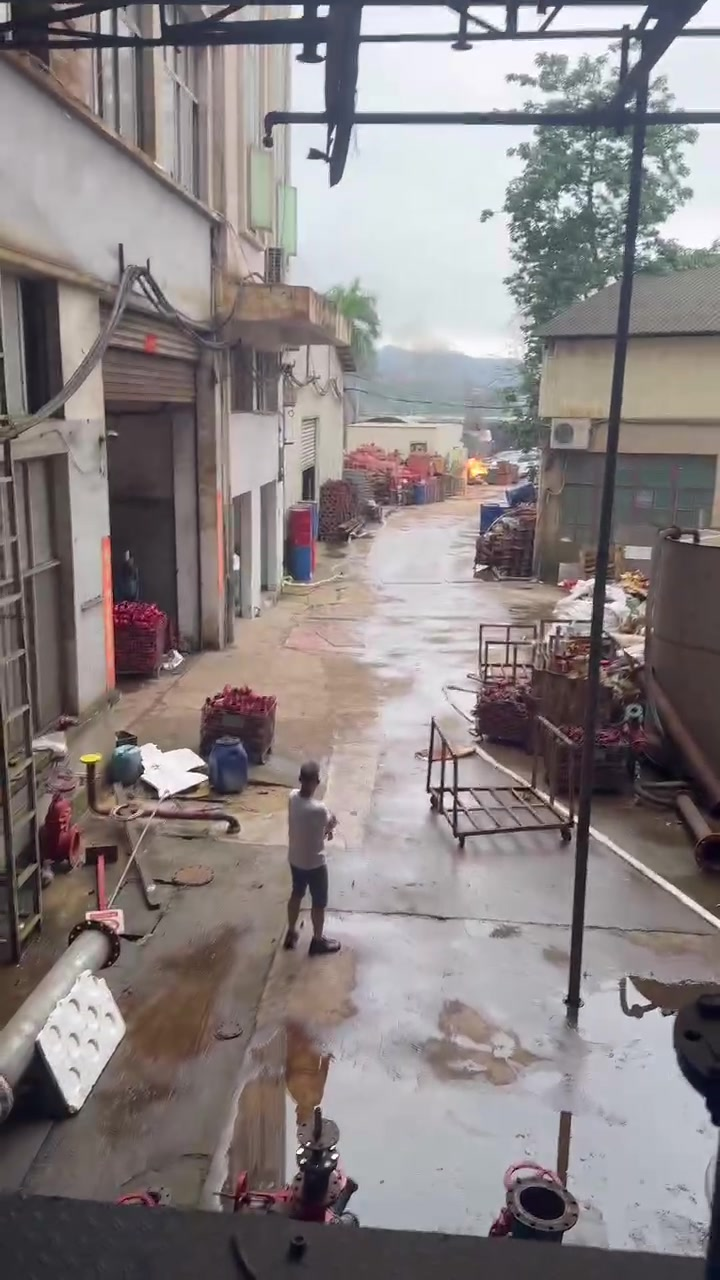fire: (466, 455, 488, 478)
